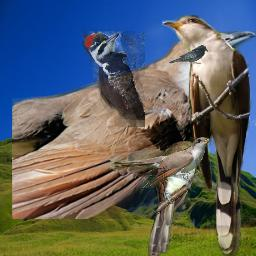Crow: (169, 45, 208, 64)
Cuckoo: (12, 31, 256, 219), (162, 15, 252, 256), (148, 140, 204, 256), (110, 137, 209, 188)
Woodpecker: (82, 31, 145, 127)
